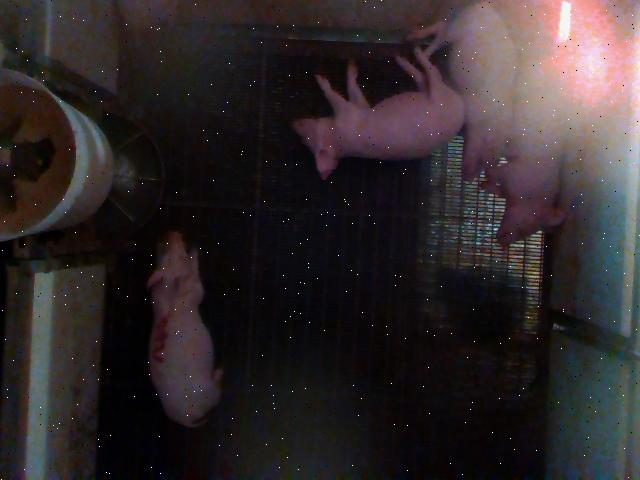pig-3: (146, 231, 222, 428)
